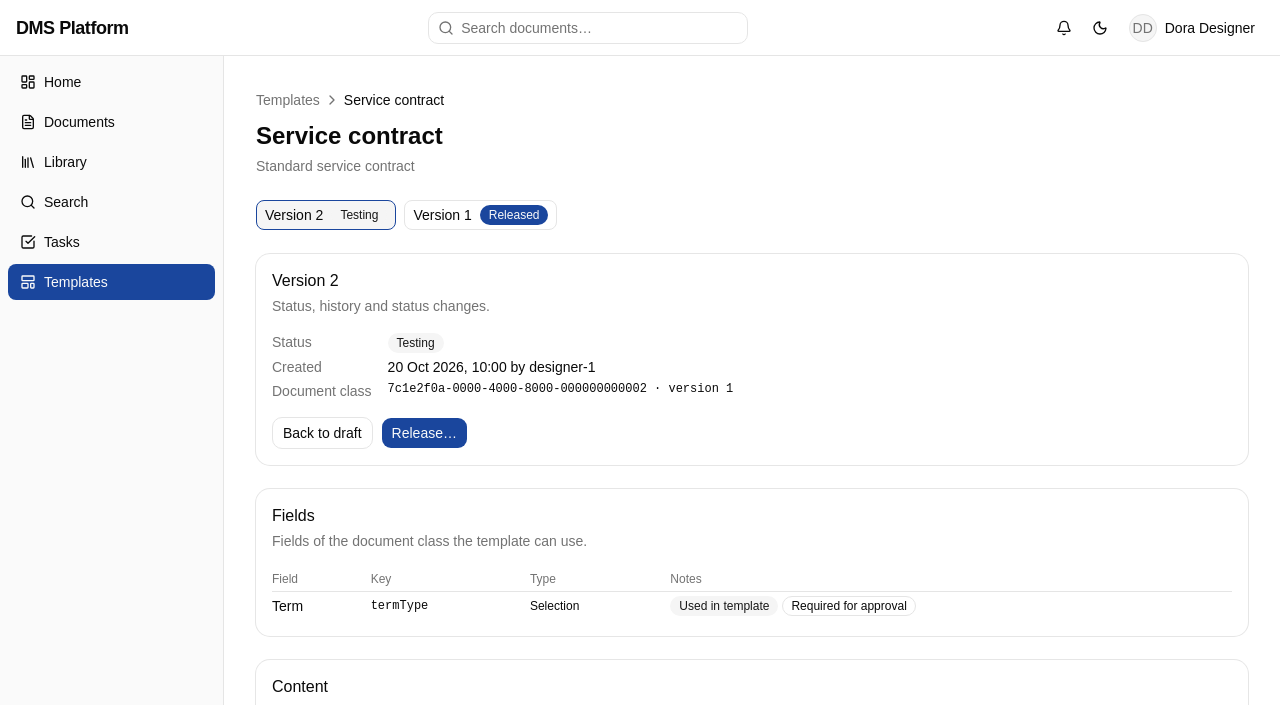
Template page › shows a conflict of a status change with a hint to reload
Click the button "Back to draft".
click(322, 433)  # box [272,417,373,449]
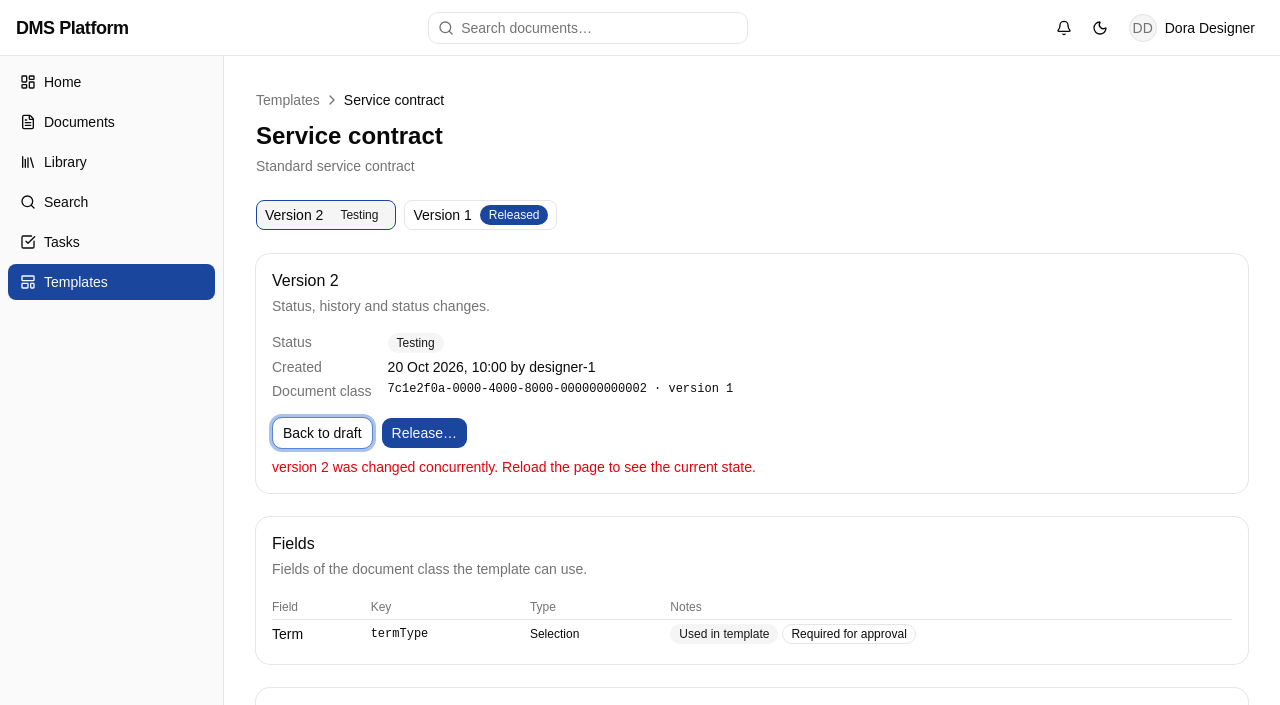
Check: the message shows "version 2 was changed concurrently. Reload the page", box [272,459,756,475]
